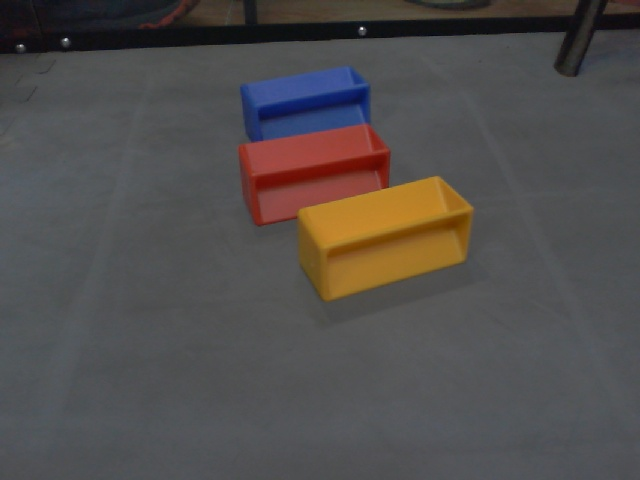BlueSample: (238, 64, 373, 146)
RedSample: (237, 123, 393, 226)
YellowSample: (296, 175, 475, 301)
